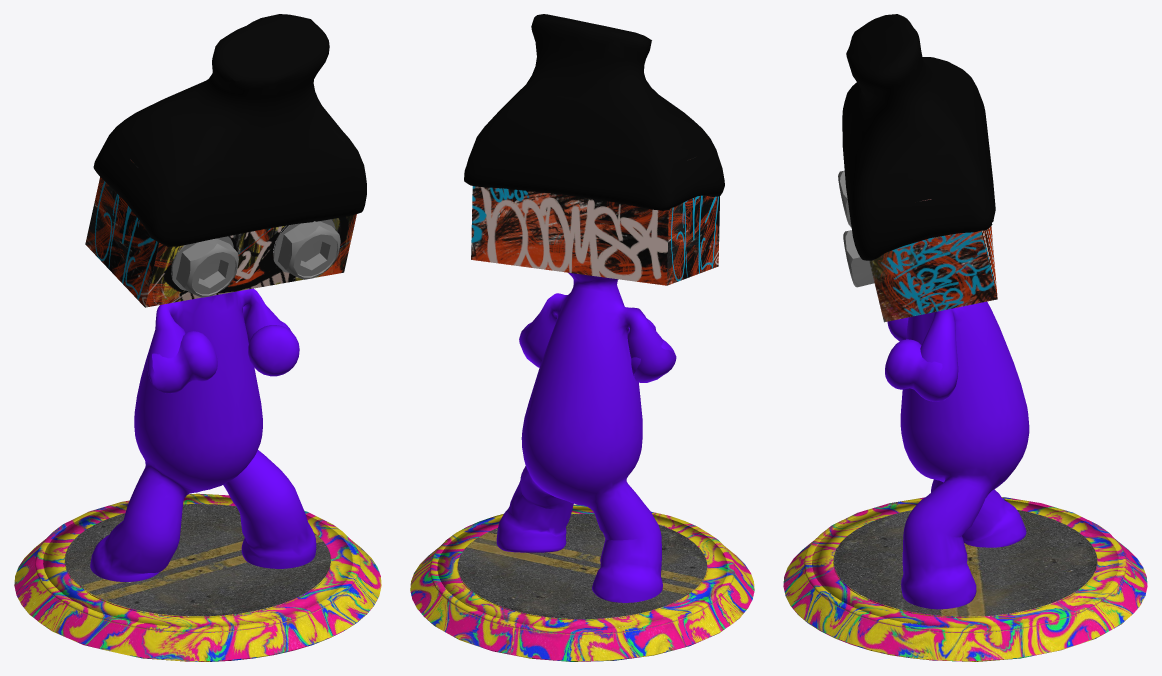
3 renders of one model, left to right at view 1: azimuth 30°, elevation 25°; view 2: azimuth 150°, elevation 25°; view 3: azimuth 270°, elevation 25°, orthographic. The views are drawn at different scales.
Parts seen in each view (by area): view 1: BBody; view 2: BBody; view 3: BBody.
Boxes of the visible parts, left/top/right/bottom form: BBody: left=14, top=14, right=381, bottom=661; BBody: left=410, top=14, right=754, bottom=661; BBody: left=783, top=14, right=1147, bottom=661.
Size of the model in its own units: 1.45 by 2.51 by 1.45.
Materials: 6 (3 with a texture image).
